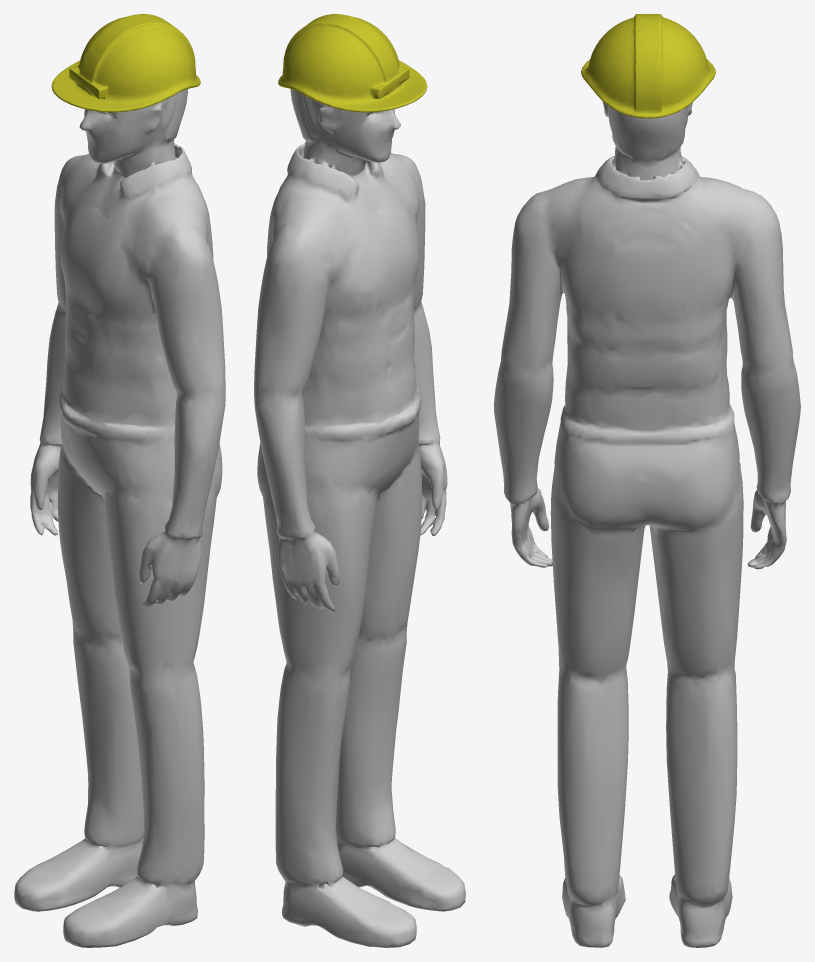
File: WorkerMan.glb
3 views of the same model, side by side, from view 1: azimuth 30°, elevation 25°; view 2: azimuth 150°, elevation 25°; view 3: azimuth 270°, elevation 25° (orthographic). The views are drawn at different scales.
Parts seen in each view (by area): view 1: mmGroup0; view 2: mmGroup0; view 3: mmGroup0.
Part boxes in pixels (x1=…): mmGroup0: x1=14, y1=14, x2=225, y2=947; mmGroup0: x1=254, y1=14, x2=465, y2=947; mmGroup0: x1=494, y1=14, x2=800, y2=947.
Bounding box in the file's own units: 347 × 1889 × 575.
